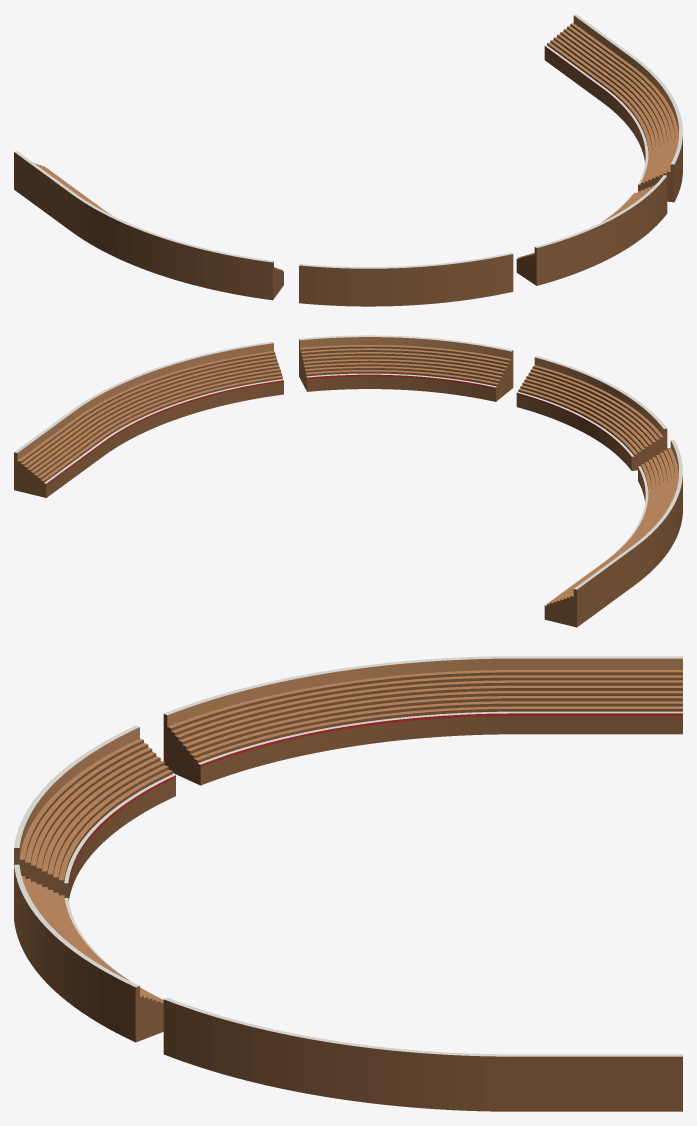
File: SM_AmphiCavea.fbx
3 views of the same model, one above another, from view 1: azimuth 30°, elevation 25°; view 2: azimuth 150°, elevation 25°; view 3: azimuth 270°, elevation 25° (orthographic). The views are drawn at different scales.
Visible parts, largest first — view 1: SM_AmphiCavea; view 2: SM_AmphiCavea; view 3: SM_AmphiCavea.
Boxes of the visible parts, box(x1,y1,x2,y2) form: SM_AmphiCavea: box(14, 14, 682, 306); SM_AmphiCavea: box(14, 335, 682, 627); SM_AmphiCavea: box(14, 656, 682, 1111).
Bounding box in the file's own units: 136 × 95.74 × 8.7.
